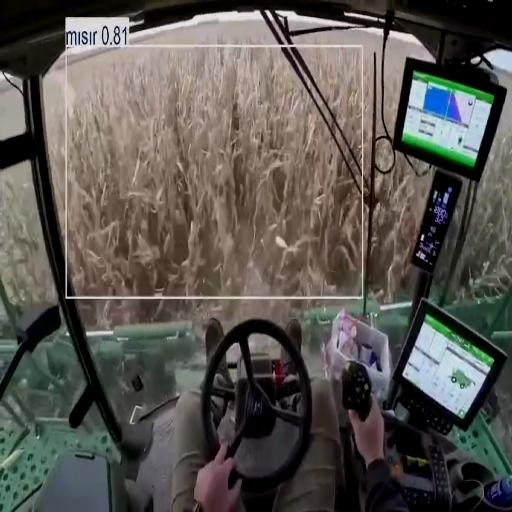misir: (67, 48, 368, 295), (299, 33, 379, 182), (370, 154, 430, 297)
